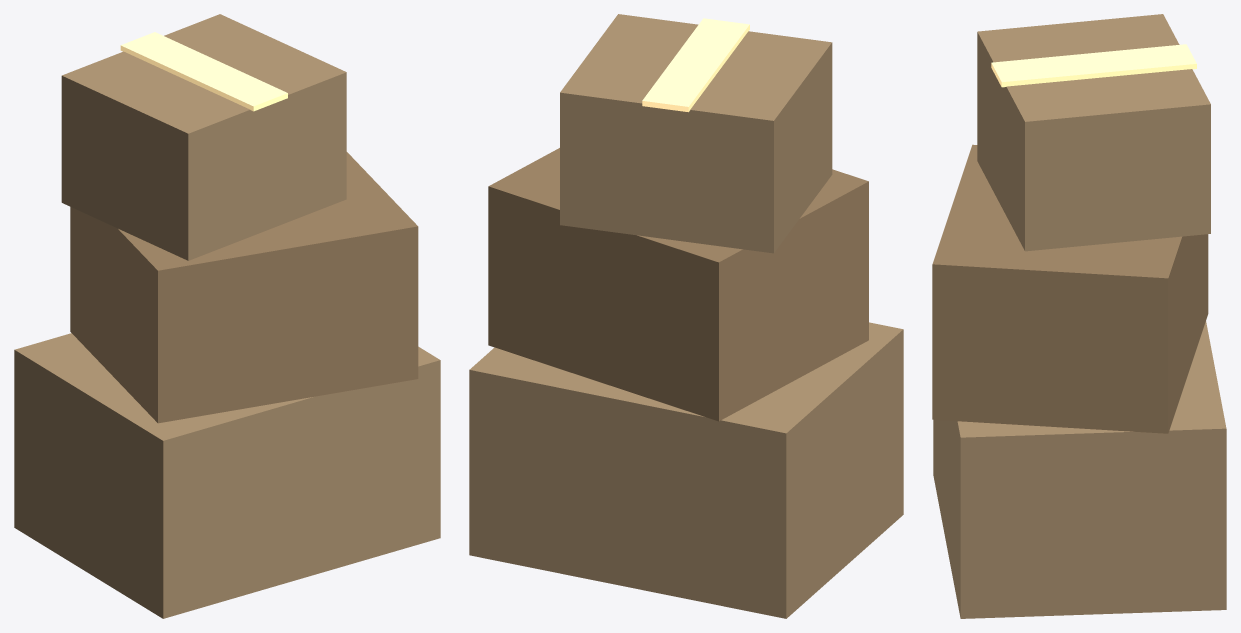
The model's file is box_stack.glb.
3 views of the same model, side by side, from view 1: azimuth 30°, elevation 25°; view 2: azimuth 150°, elevation 25°; view 3: azimuth 270°, elevation 25° (orthographic). The views are drawn at different scales.
Visible parts, largest first — view 1: BoxBottom, BoxMiddle, BoxTop, TapeTop; view 2: BoxBottom, BoxMiddle, BoxTop, TapeTop; view 3: BoxBottom, BoxMiddle, BoxTop, TapeTop.
Part boxes in pixels (x1,y1,x2,y2): BoxBottom: (14,333,440,618); BoxMiddle: (70,152,418,423); BoxTop: (61,14,346,260); TapeTop: (120,32,287,111); BoxBottom: (469,322,903,618); BoxMiddle: (488,148,868,421); BoxTop: (560,14,832,253); TapeTop: (642,18,749,112); BoxBottom: (933,321,1226,618); BoxMiddle: (932,144,1208,433); BoxTop: (977,14,1210,251); TapeTop: (991,44,1196,87).
Size of the model in its own units: 0.7624 by 1.09 by 0.6173.
